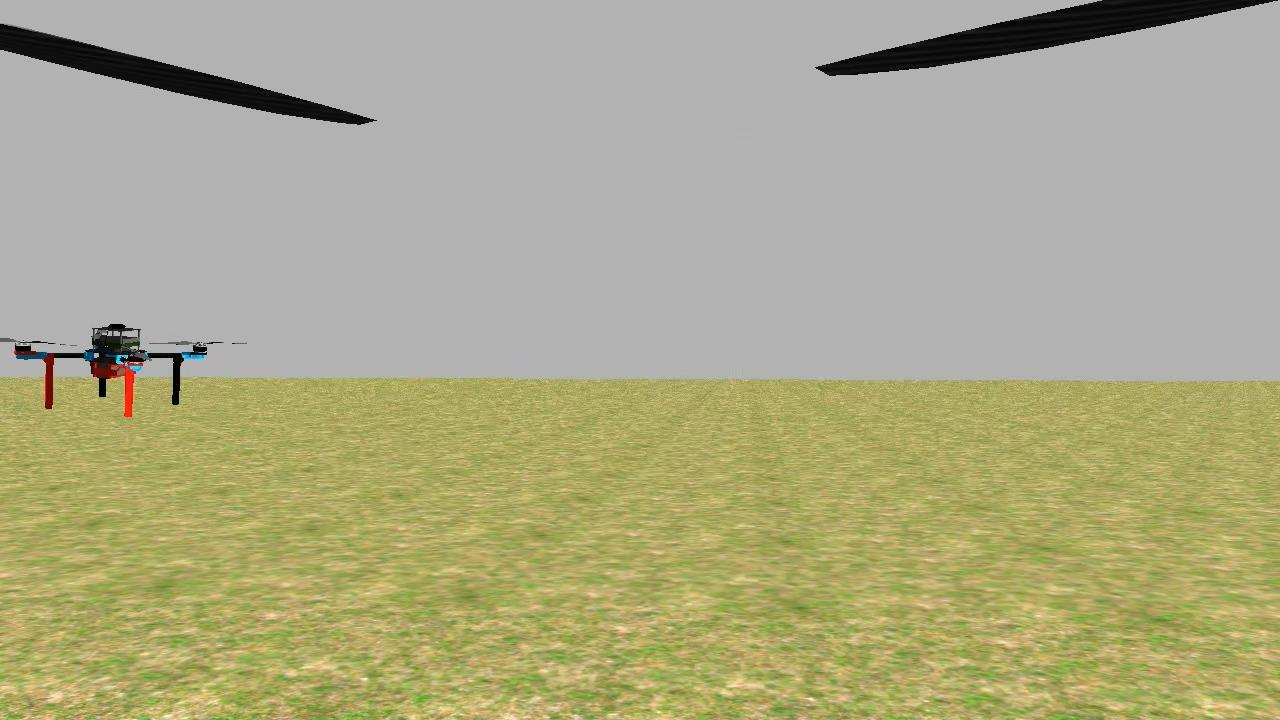UAV: (10, 306, 214, 421)
